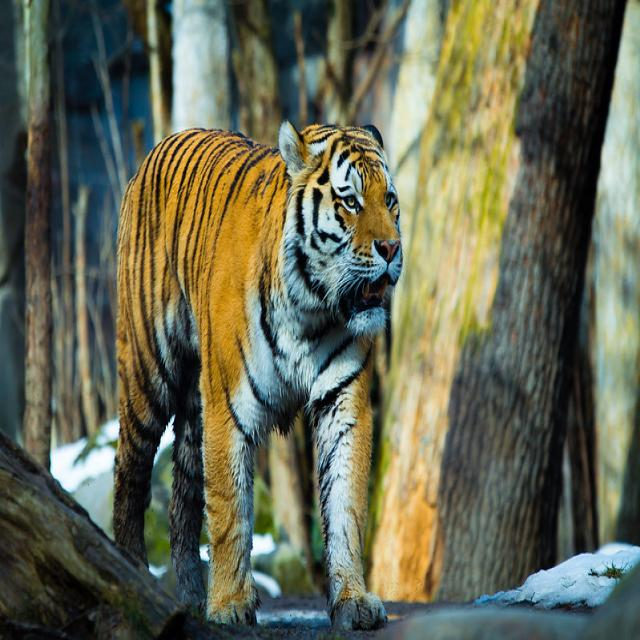Tiger: (107, 113, 410, 634)
